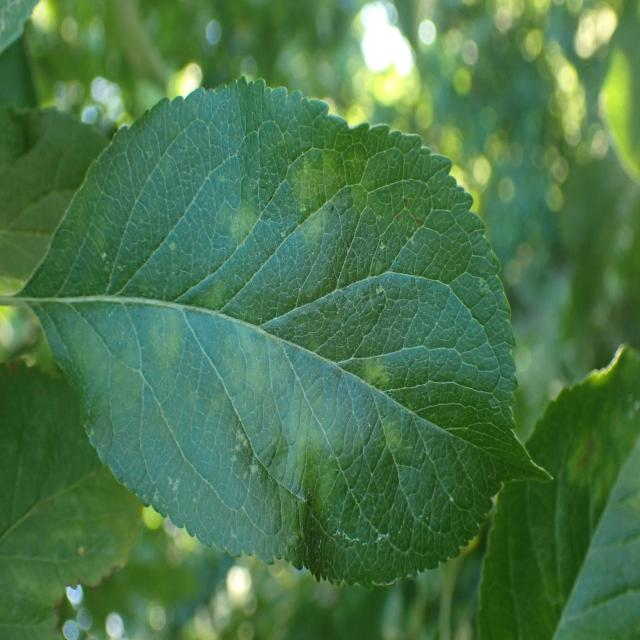scab: (82, 97, 490, 506)
